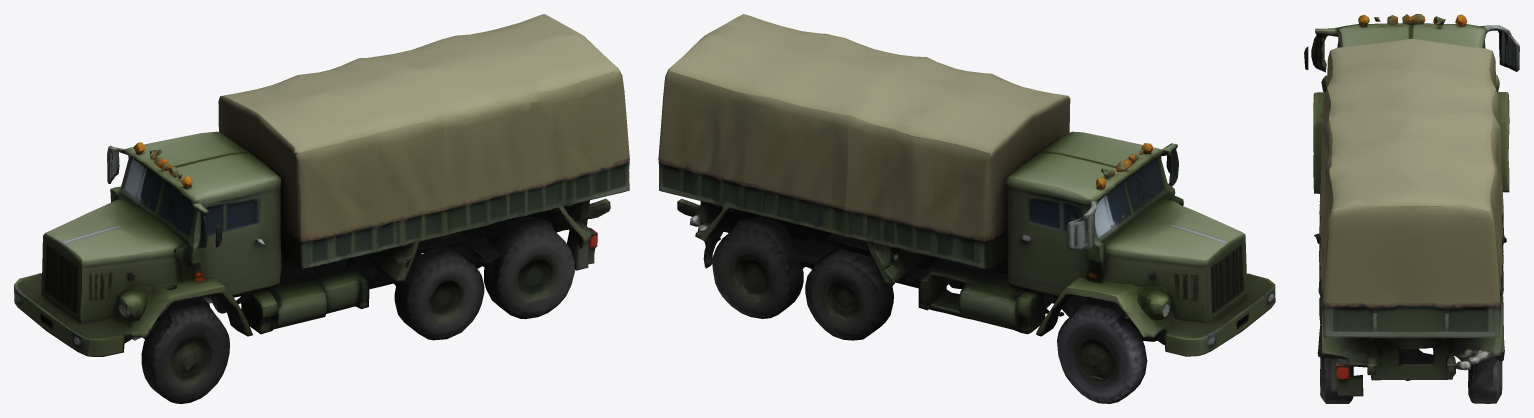
File: supply-truck.glb
3 renders of one model, left to right at view 1: azimuth 30°, elevation 25°; view 2: azimuth 150°, elevation 25°; view 3: azimuth 270°, elevation 25°, orthographic. The views are drawn at different scales.
Parts seen in each view (by area): view 1: geometry_0; view 2: geometry_0; view 3: geometry_0.
Boxes of the visible parts, bbox=[...] form: geometry_0: bbox=[14, 14, 629, 403]; geometry_0: bbox=[658, 14, 1275, 403]; geometry_0: bbox=[1304, 14, 1519, 403].
Size of the model in its own units: 1 by 0.4133 by 0.3308.
Materials: 1 (1 with a texture image).
